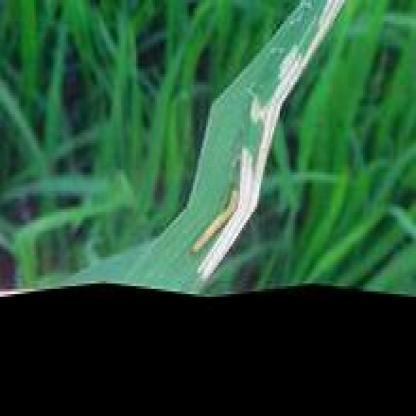leaf-folder: (174, 180, 254, 269)
